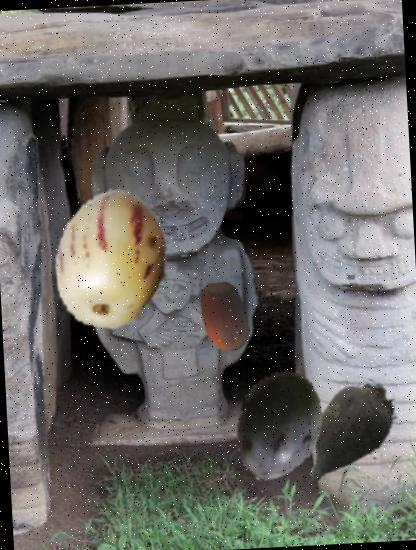Beetroot: (282, 368, 414, 501)
Hazelnut: (187, 279, 264, 356)
Pepino: (38, 188, 182, 332)
Plum: (218, 364, 340, 487)
